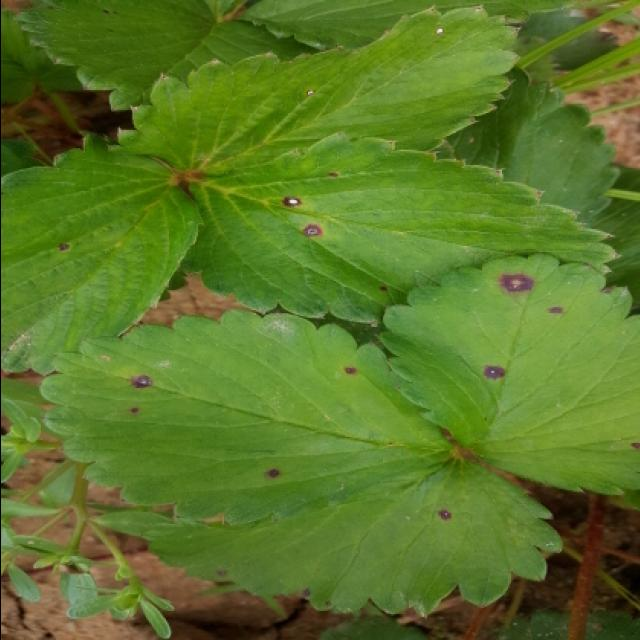Leaf Spot: (38, 306, 457, 525), (179, 129, 620, 328), (115, 3, 521, 182), (140, 460, 563, 617), (373, 252, 640, 495), (2, 132, 205, 377)
